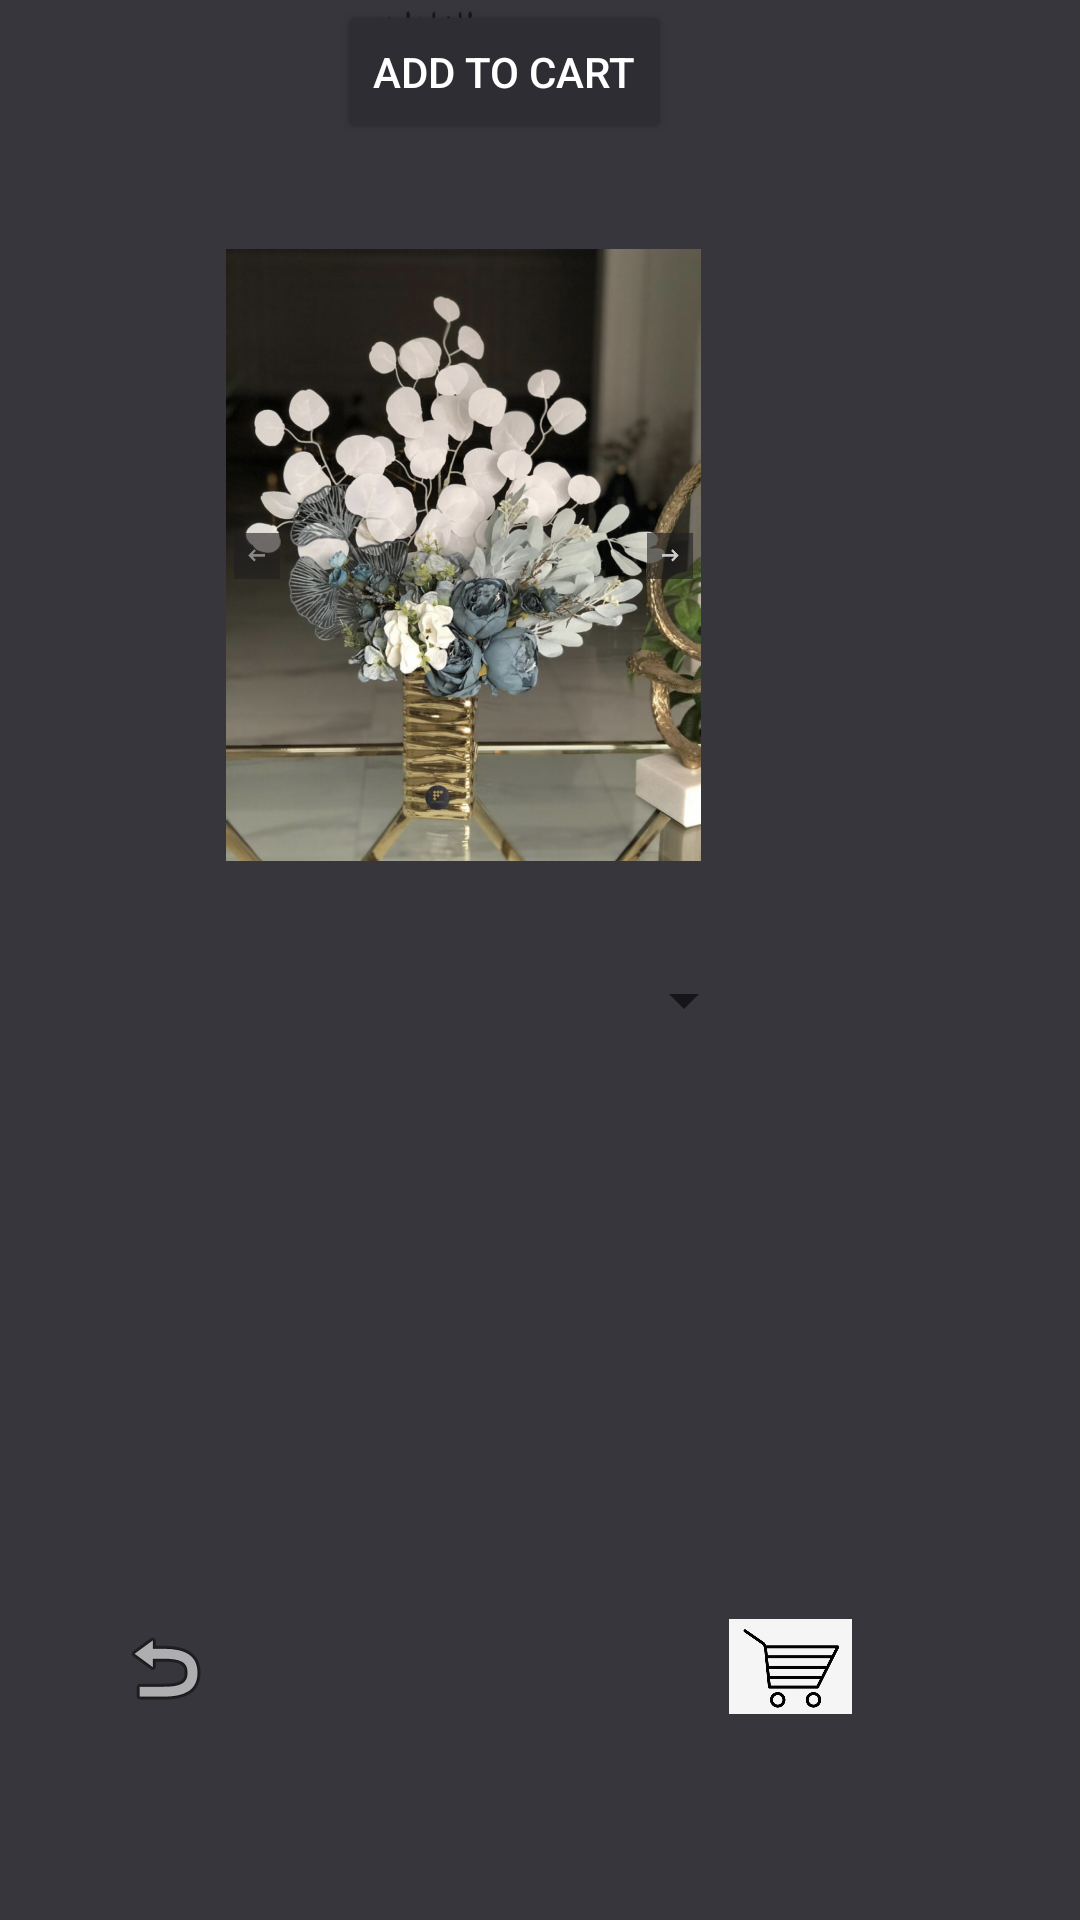

Point at icon controls on the screen. Image size 1080*1920, points as (x,y).
revert: (166,1668)
